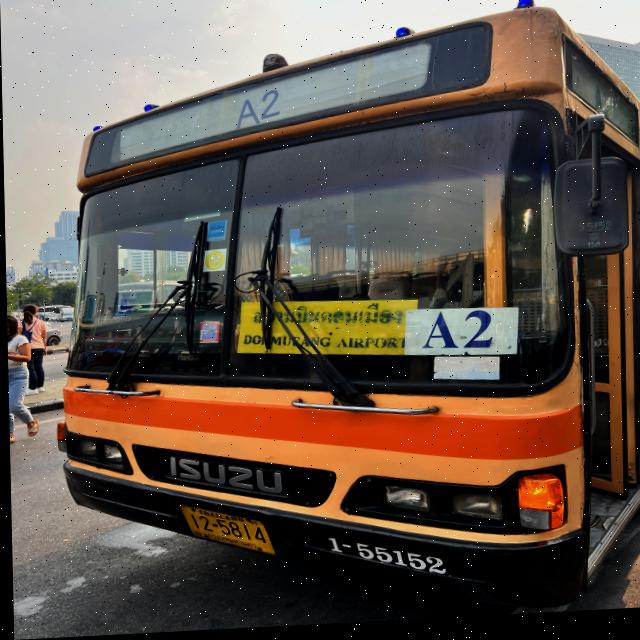BMTA-bus: (41, 0, 640, 638)
Bus-Line-Number: (231, 88, 287, 136)
Destination-Sign-Normal-Expressway: (240, 298, 415, 367)
